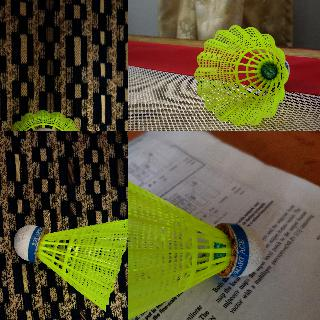shuttlecock: (128, 169, 264, 319), (12, 219, 127, 312), (194, 26, 288, 126), (3, 109, 84, 130)
